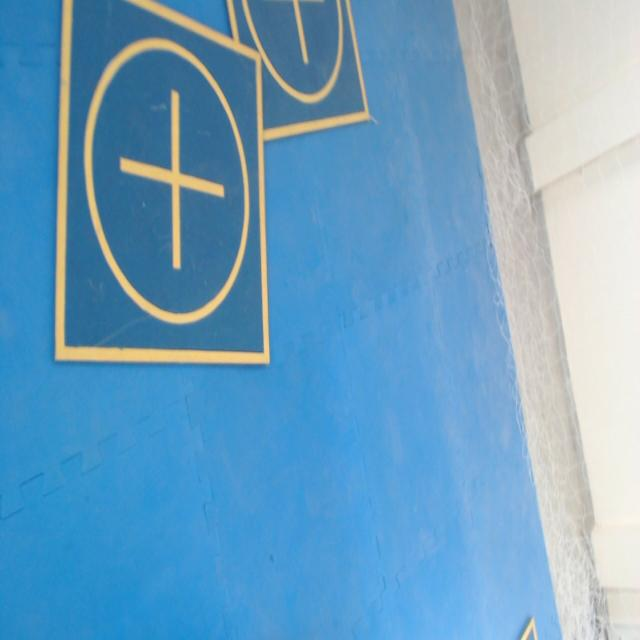base_pouso: (56, 1, 271, 363), (226, 0, 369, 143)
